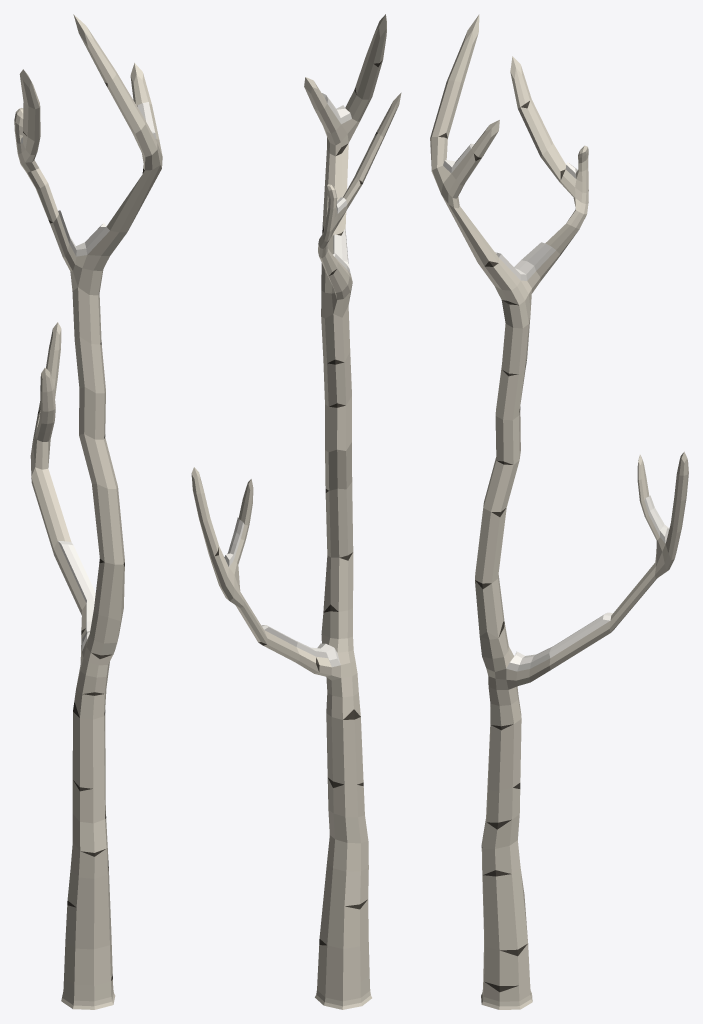
Rendered from BirchTree_Dead_Snow_5.glb.
3 views of the same model, side by side, from view 1: azimuth 30°, elevation 25°; view 2: azimuth 150°, elevation 25°; view 3: azimuth 270°, elevation 25° (orthographic). The views are drawn at different scales.
Visible parts, largest first — view 1: BirchTree_Dead_Snow_5; view 2: BirchTree_Dead_Snow_5; view 3: BirchTree_Dead_Snow_5.
Part boxes in pixels (box(x1,y1,x2,y2)): BirchTree_Dead_Snow_5: box(14, 14, 162, 1009); BirchTree_Dead_Snow_5: box(191, 14, 401, 1009); BirchTree_Dead_Snow_5: box(430, 14, 688, 1009).
Bounding box in the file's own units: 0.5716 × 4.37 × 1.05.
